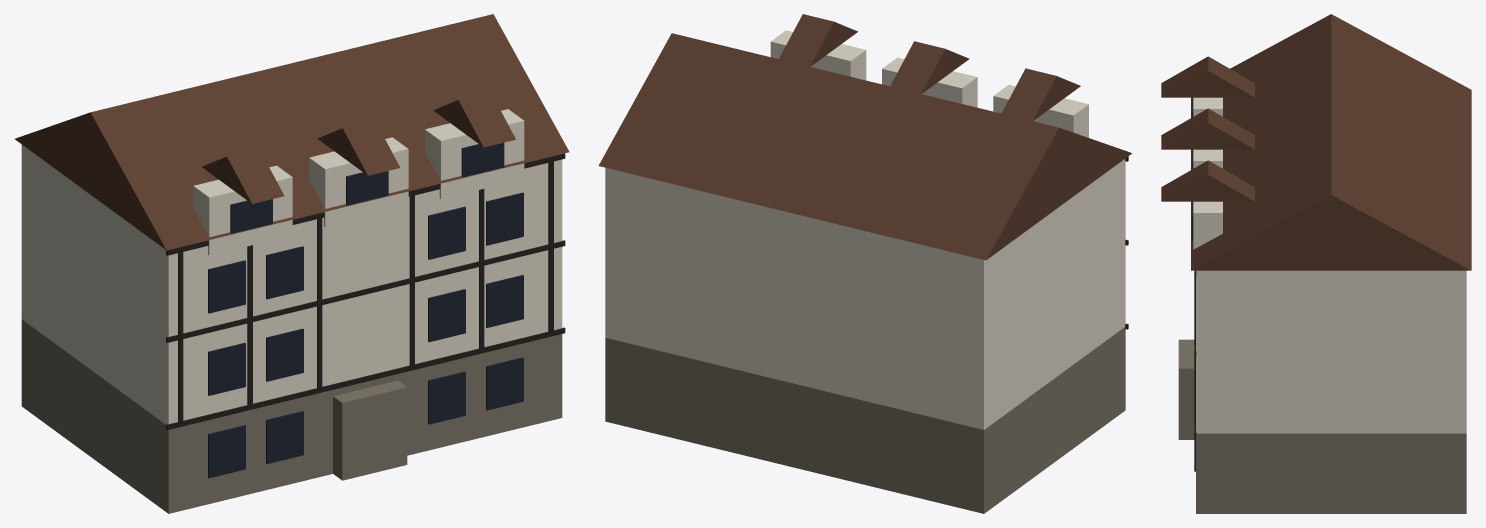
The model's file is building_westyork_s4_tudor_flats.glb.
3 views of the same model, side by side, from view 1: azimuth 30°, elevation 25°; view 2: azimuth 150°, elevation 25°; view 3: azimuth 270°, elevation 25° (orthographic). The views are drawn at different scales.
Parts seen in each view (by area): view 1: building_westyork_s4_tudor_flats; view 2: building_westyork_s4_tudor_flats; view 3: building_westyork_s4_tudor_flats.
Part boxes in pixels (left/top/right/bottom): building_westyork_s4_tudor_flats: left=15, top=14, right=569, bottom=513; building_westyork_s4_tudor_flats: left=598, top=14, right=1132, bottom=513; building_westyork_s4_tudor_flats: left=1161, top=14, right=1471, bottom=513.
Size of the model in its own units: 17.4 by 14.4 by 12.6.
Materials: 1 (1 with a texture image).
